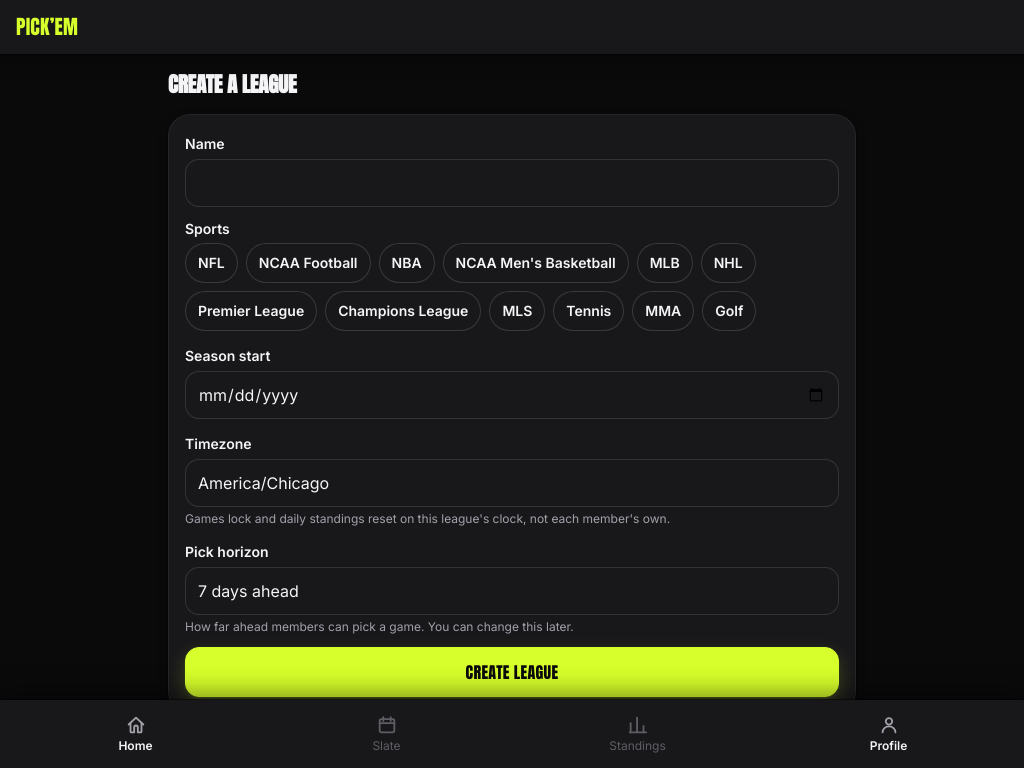
it: CreateLeagueScreen › maps a VALIDATION_ERROR field onto the right input
The width and height of the screenshot is (1024, 768).
Type "AFC League" into the field labelled "Name" at (512, 183), box [185,159,839,207]
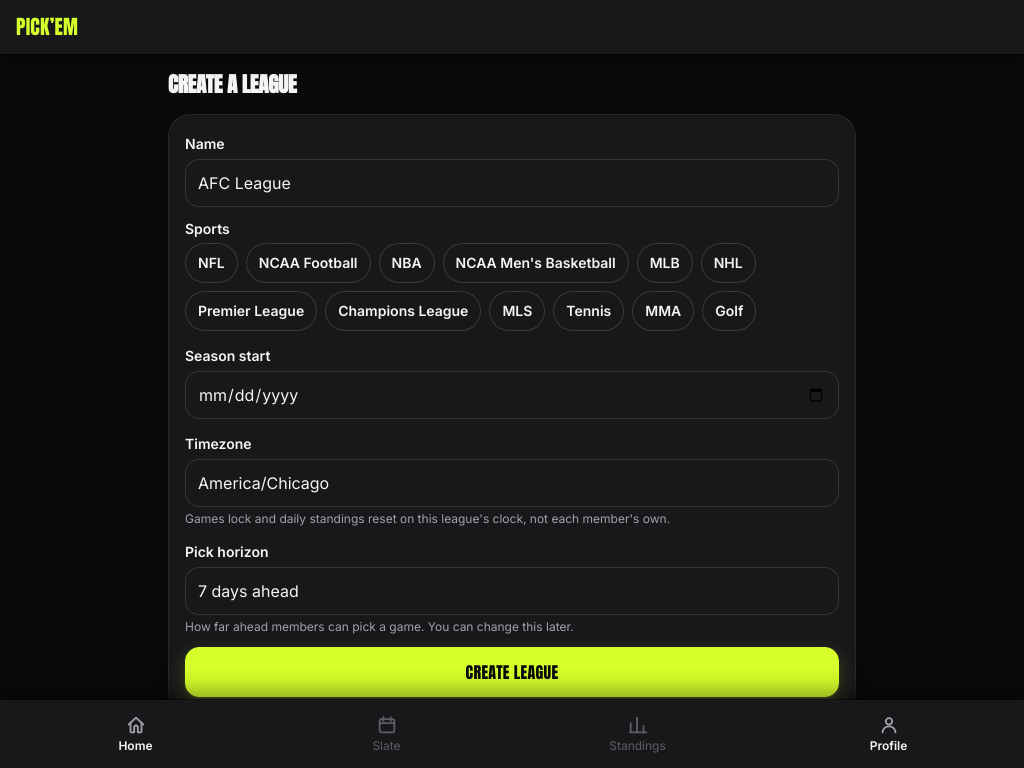
Click the checkbox labelled "NFL" at (211, 263), box [185,243,238,283]
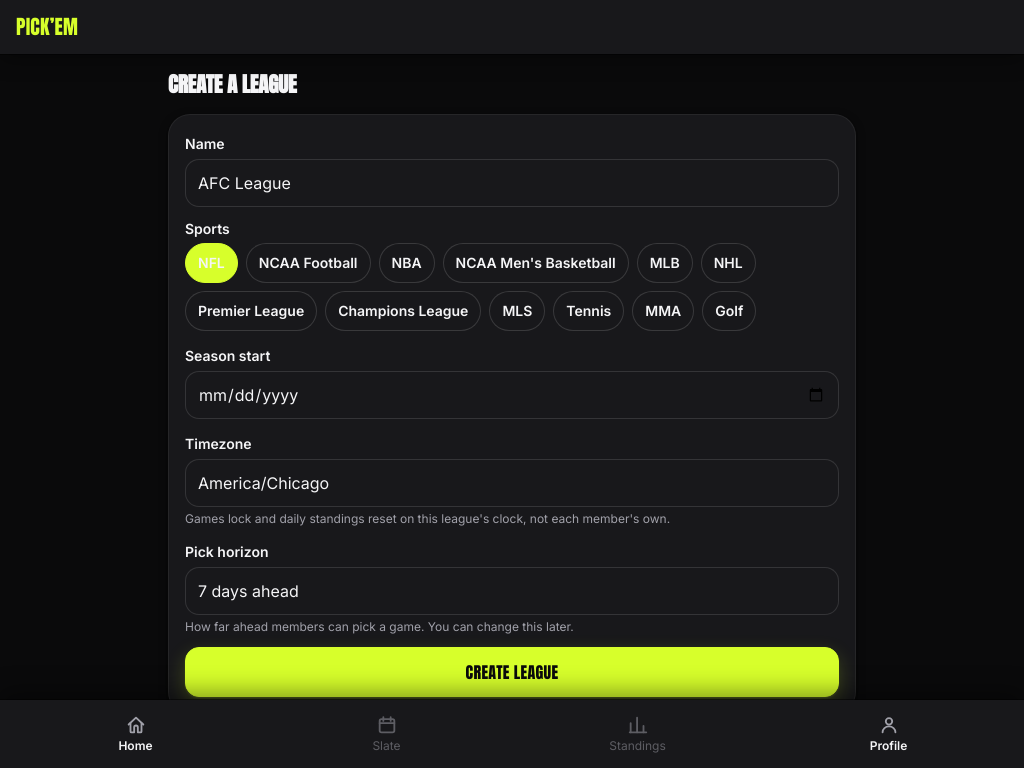
Type "2026-09-01" into the date field labelled "Season start" at (512, 395), box [185,371,839,419]
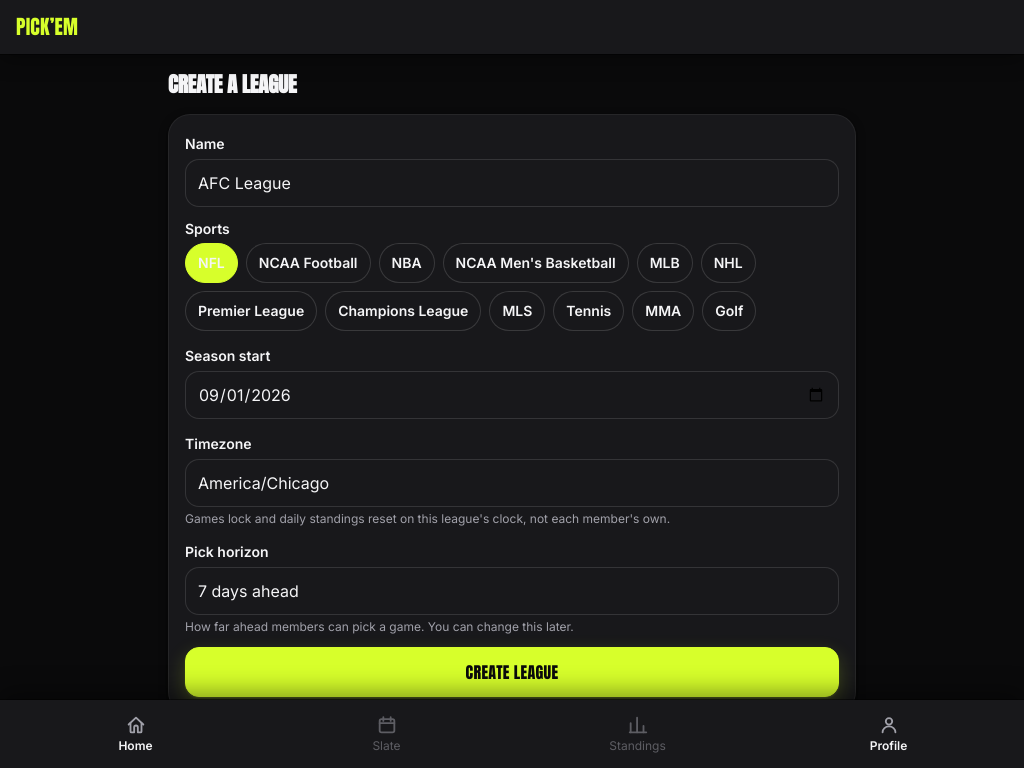
Click the button "Create league" at (512, 672), box [185,647,839,697]
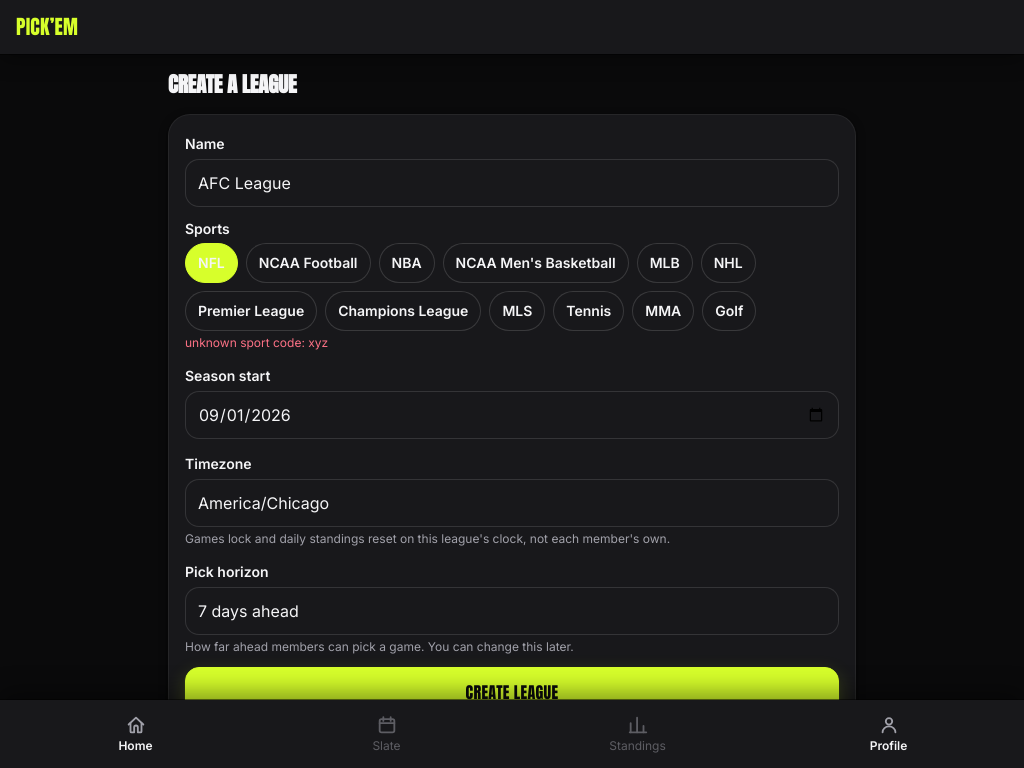
Check: the text "unknown sport code: xyz" is shown, box [185,335,328,350]
